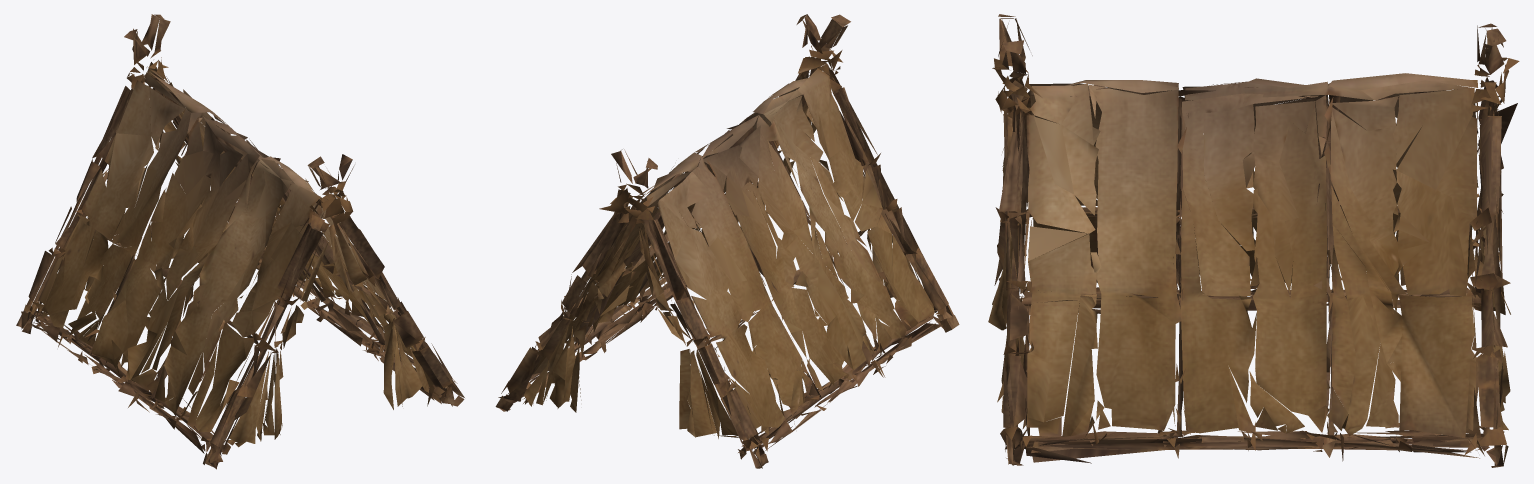
Rendered from hide-tent-lod-performance.glb.
3 renders of one model, left to right at view 1: azimuth 30°, elevation 25°; view 2: azimuth 150°, elevation 25°; view 3: azimuth 270°, elevation 25°, orthographic. The views are drawn at different scales.
Parts seen in each view (by area): view 1: hide-tent.001; view 2: hide-tent.001; view 3: hide-tent.001.
Part boxes in pixels (left/top/right/bottom): hide-tent.001: left=16, top=14, right=464, bottom=469; hide-tent.001: left=495, top=14, right=959, bottom=468; hide-tent.001: left=988, top=14, right=1519, bottom=467.
Bounding box in the file's own units: 3.44 × 3.52 × 4.56.
1 material, 1 textured.
